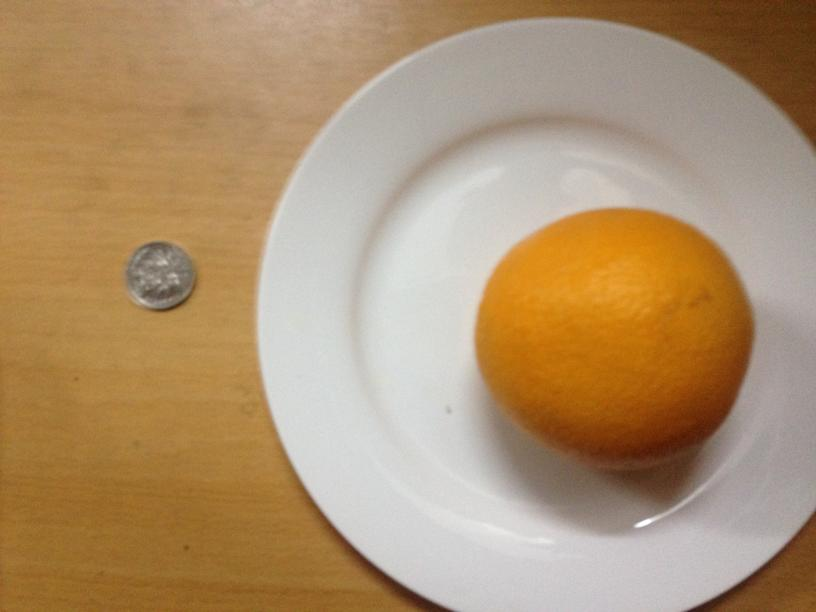coin: (126, 243, 195, 308)
orange: (476, 212, 754, 467)
